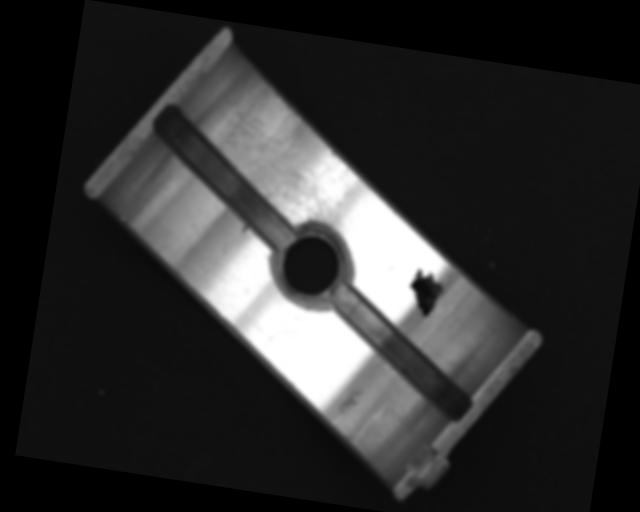blot: (404, 267, 447, 320)
bruise: (335, 383, 367, 417), (240, 223, 251, 236)
gap: (138, 105, 312, 251), (320, 286, 485, 421)
hole: (269, 222, 357, 309)
scratch: (201, 90, 363, 240)
